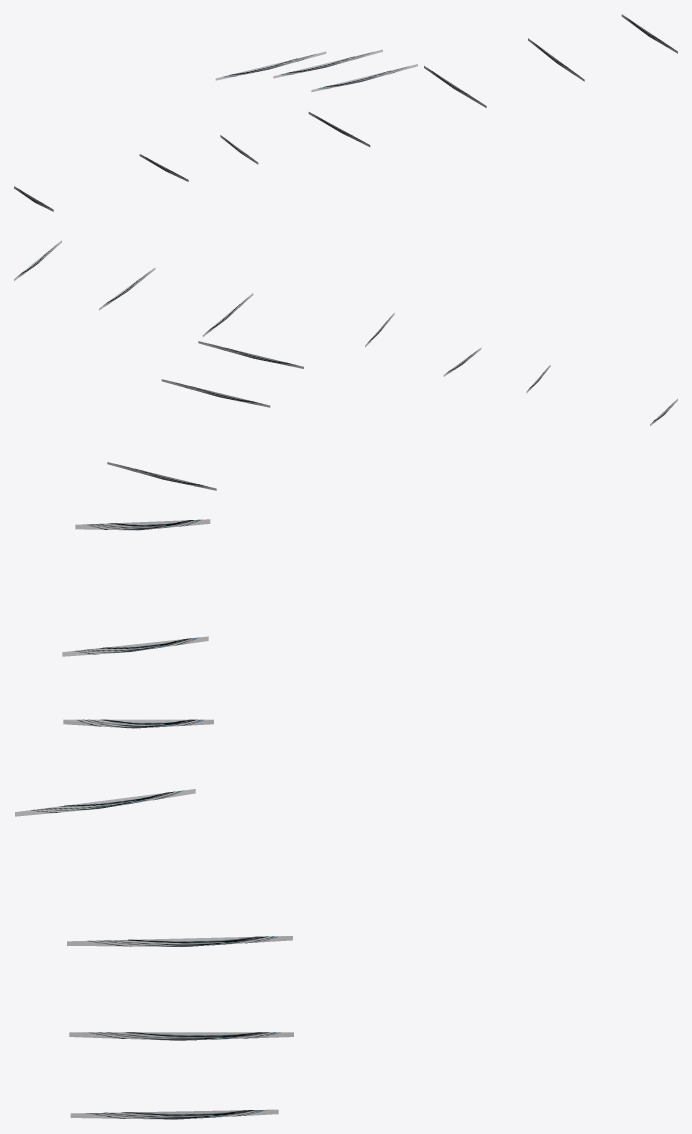
Rendered from cables_sfw28.obj.
The picture shows the model from 3 angles, top to bottom: view 1: azimuth 30°, elevation 25°; view 2: azimuth 150°, elevation 25°; view 3: azimuth 270°, elevation 25°; orthographic projection. The views are drawn at different scales.
Visible parts, largest first — view 1: cables_sfw28; view 2: cables_sfw28; view 3: cables_sfw28.
Boxes of the visible parts, x1,y1,x2,y2 form: cables_sfw28: (14, 14, 677, 211); cables_sfw28: (14, 240, 677, 490); cables_sfw28: (15, 519, 293, 1119).
Size of the model in its own units: 160 by 16.45 by 73.61.
Materials: 1 (1 with a texture image).
